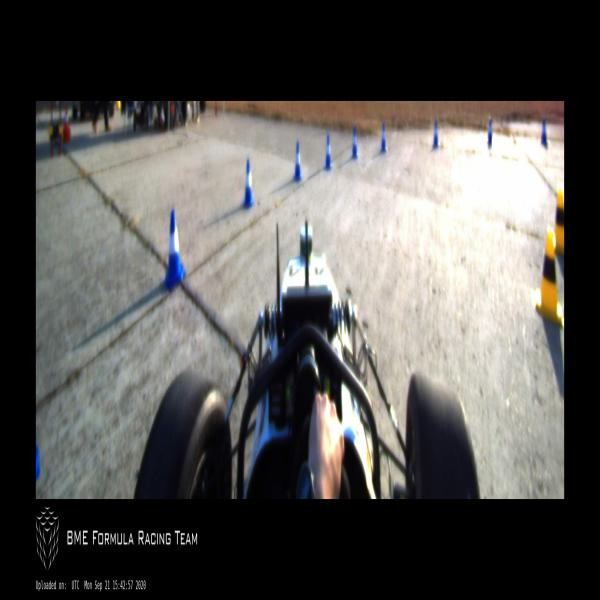blue_cone: (163, 210, 186, 292), (241, 158, 255, 208), (292, 141, 302, 180), (323, 134, 332, 169), (379, 123, 388, 152), (350, 127, 358, 159), (432, 120, 440, 148), (486, 115, 493, 147), (540, 118, 548, 146)
yellow_cone: (531, 225, 564, 325), (552, 190, 564, 255)
